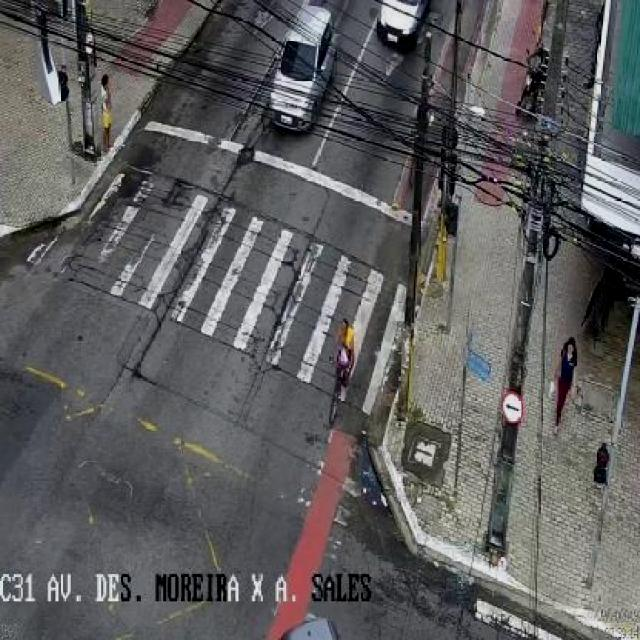Car: (266, 6, 340, 132), (375, 0, 435, 47)
Cycle: (324, 314, 359, 428)
